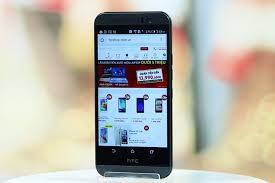htc: (93, 9, 175, 180)
